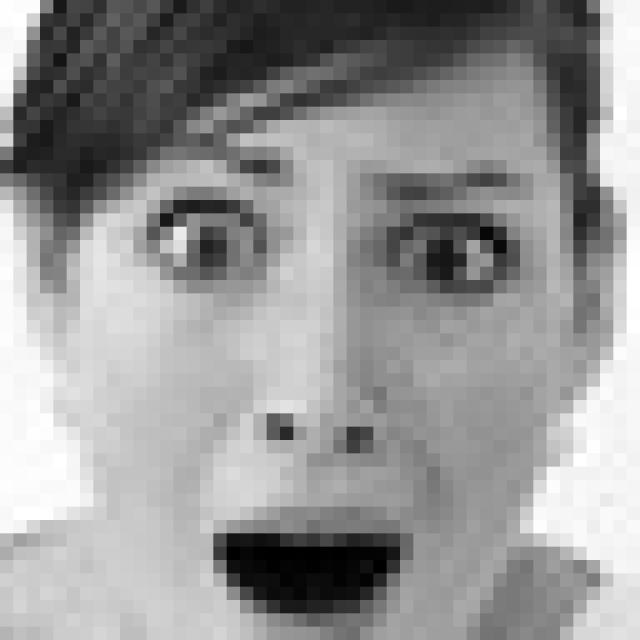surprise: (110, 115, 541, 640)
